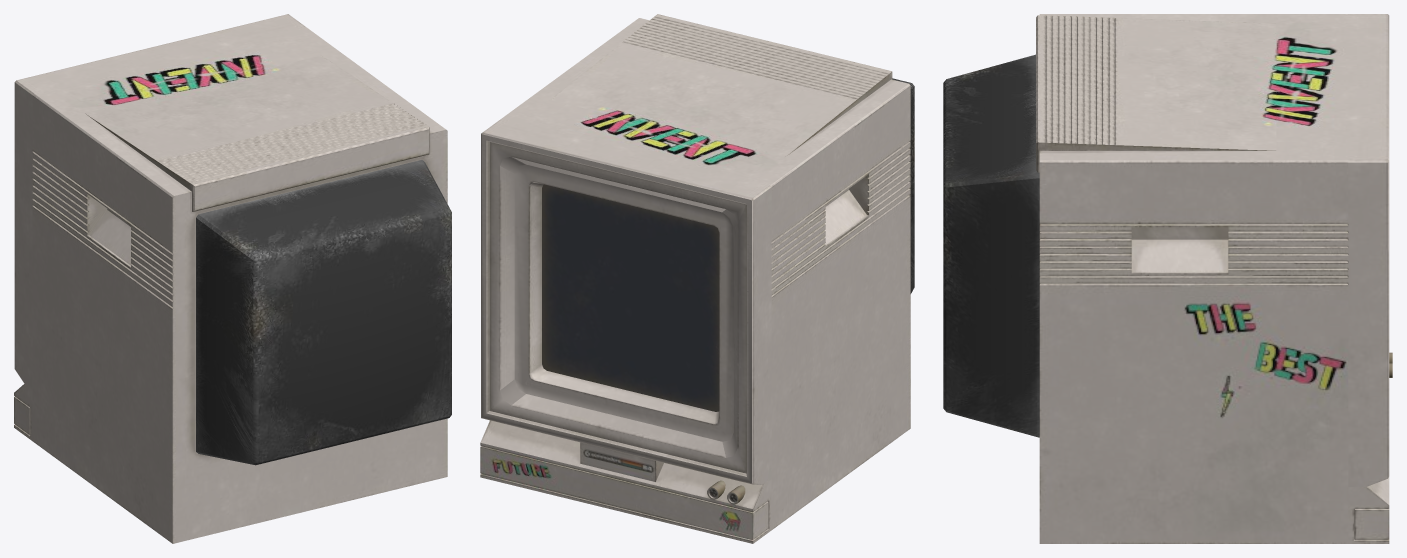
3 views of the same model, side by side, from view 1: azimuth 30°, elevation 25°; view 2: azimuth 150°, elevation 25°; view 3: azimuth 270°, elevation 25° (orthographic). The views are drawn at different scales.
Parts seen in each view (by area): view 1: Mesh_Default_0; view 2: Mesh_Default_0; view 3: Mesh_Default_0.
Part boxes in pixels (x1=…): Mesh_Default_0: x1=14, y1=14, x2=451, y2=543; Mesh_Default_0: x1=480, y1=14, x2=914, y2=543; Mesh_Default_0: x1=943, y1=14, x2=1392, y2=543.
Size of the model in its own units: 39.48 by 48.72 by 50.7.
1 material, 1 textured.
